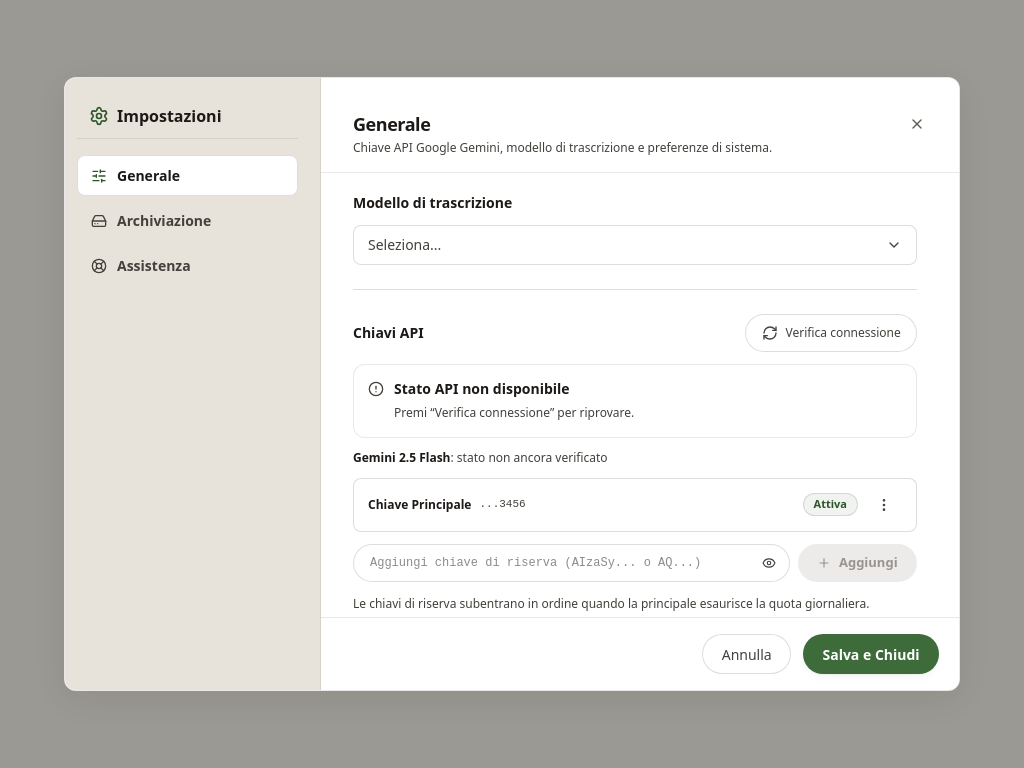
SettingsModal — session folder and cleanup › dismisses cleanup notification when close button is clicked
Click the button "Archiviazione".
click(188, 220)  # box [77,200,298,241]
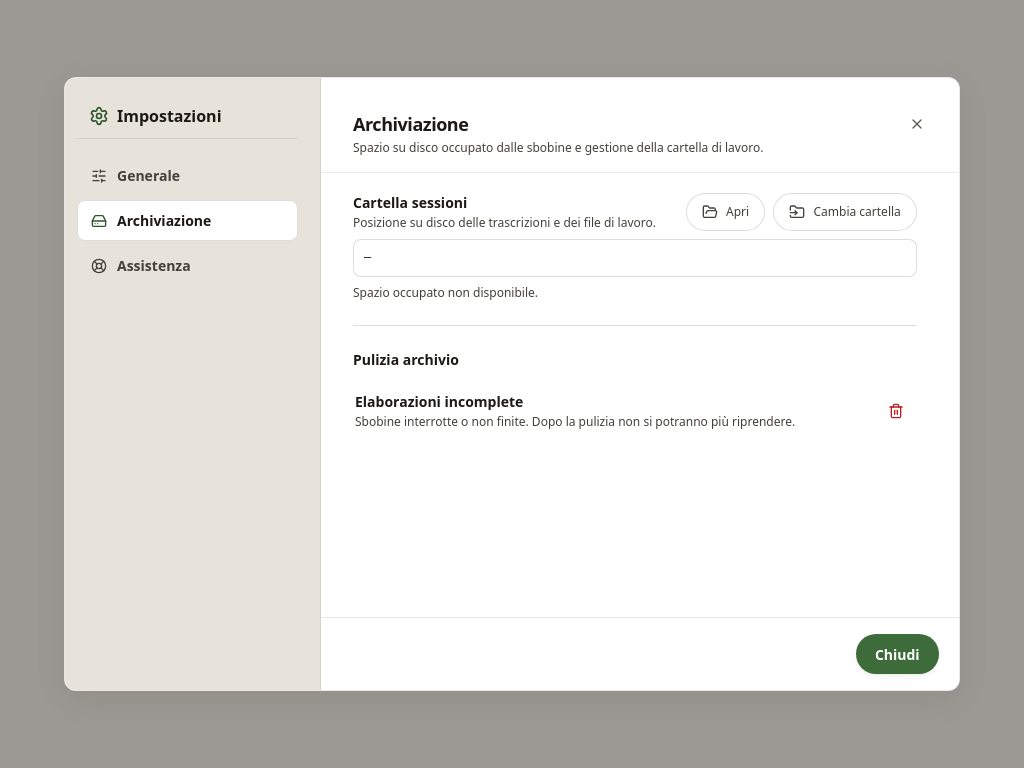
Click the button titled "Conta ed elimina tutte le elaborazioni incomplete".
click(896, 411)  # box [877,392,915,430]
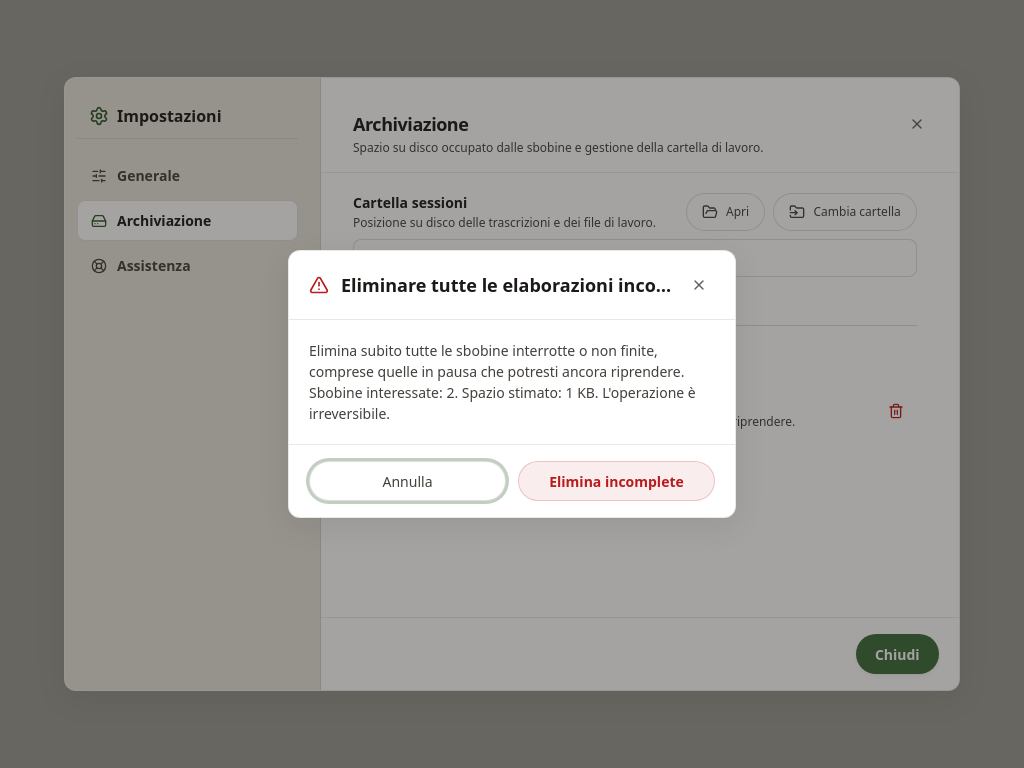
Click the button "Elimina incomplete".
click(616, 481)  # box [518,461,715,501]
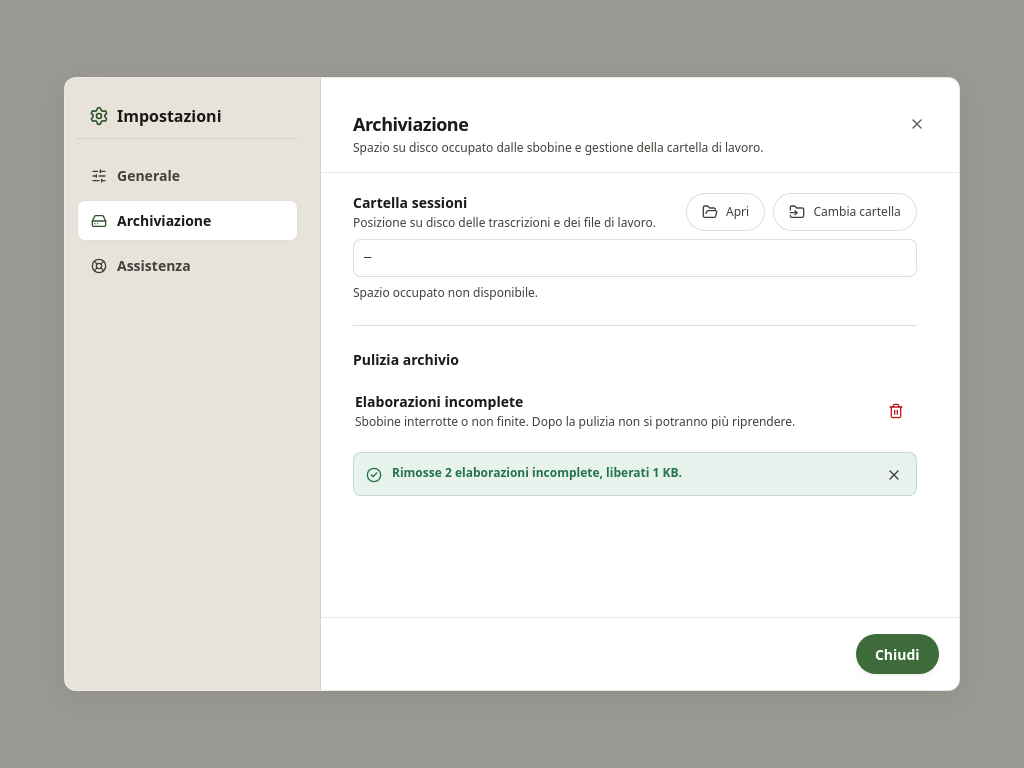
Result: the text "Rimosse 2 elaborazioni incomplete, liberati 1 KB." is shown at [392,465,682,481]
Click the button named "Chiudi notifica".
click(894, 475)  # box [882,463,906,487]
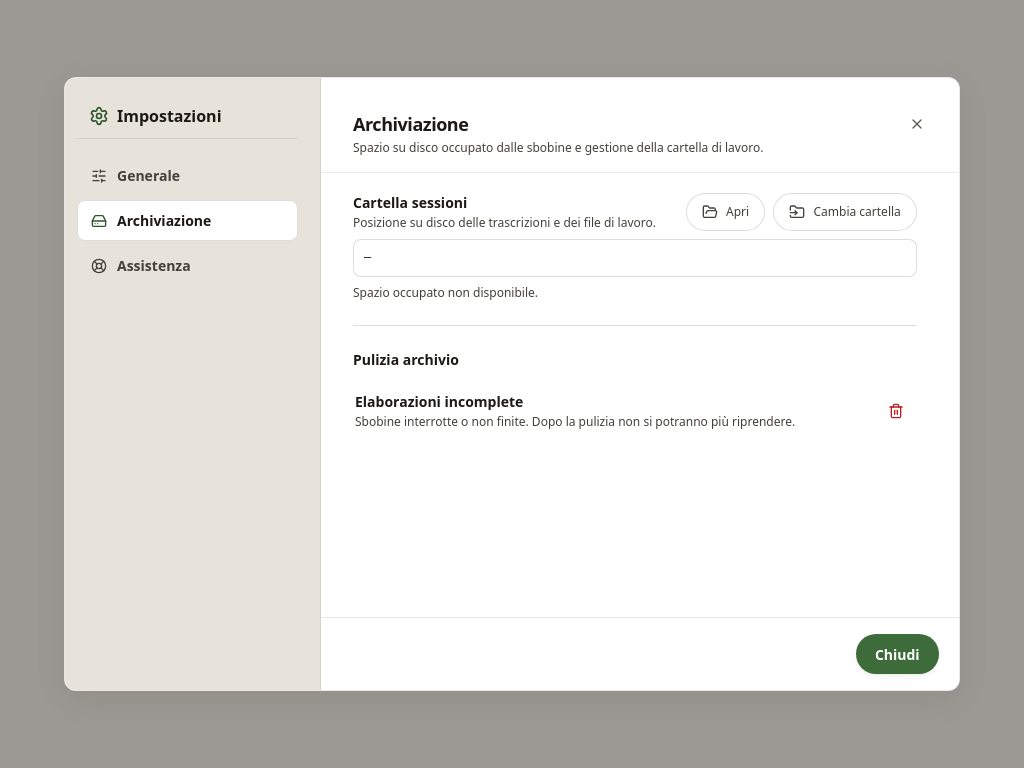
Result: the text "Rimosse 2 elaborazioni incomplete" is gone
